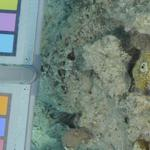dead: (40, 1, 148, 147)
